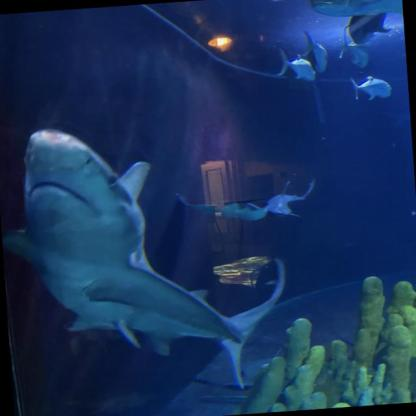fish: (302, 0, 404, 31), (276, 53, 316, 85), (339, 36, 373, 72), (349, 76, 395, 102), (302, 36, 334, 72)
shark: (0, 111, 294, 401)
